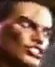kevin: (1, 0, 50, 64)
